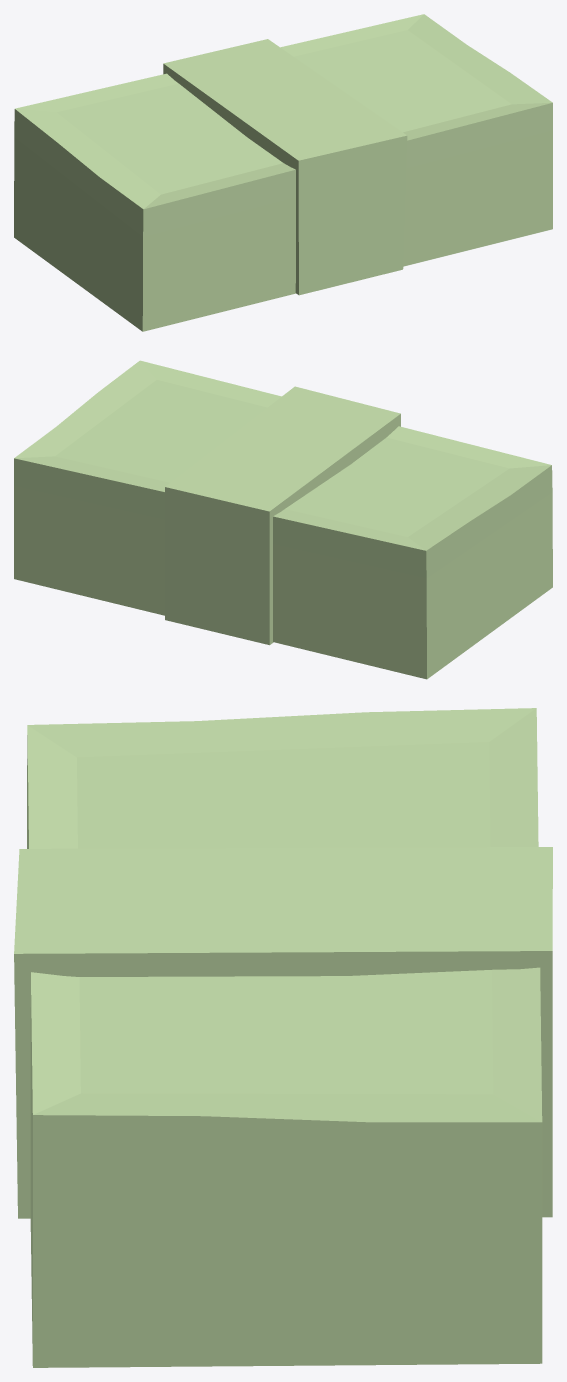
Rendered from Cash.fbx.
The picture shows the model from 3 angles, top to bottom: view 1: azimuth 30°, elevation 25°; view 2: azimuth 150°, elevation 25°; view 3: azimuth 270°, elevation 25°; orthographic projection. The views are drawn at different scales.
Visible parts, largest first — view 1: Cash.001; view 2: Cash.001; view 3: Cash.001.
Part boxes in pixels (bbox=[...]): Cash.001: bbox=[14, 14, 552, 331]; Cash.001: bbox=[14, 360, 552, 679]; Cash.001: bbox=[14, 708, 552, 1367].
Size of the model in its own units: 0.6548 by 0.2045 by 0.37.
